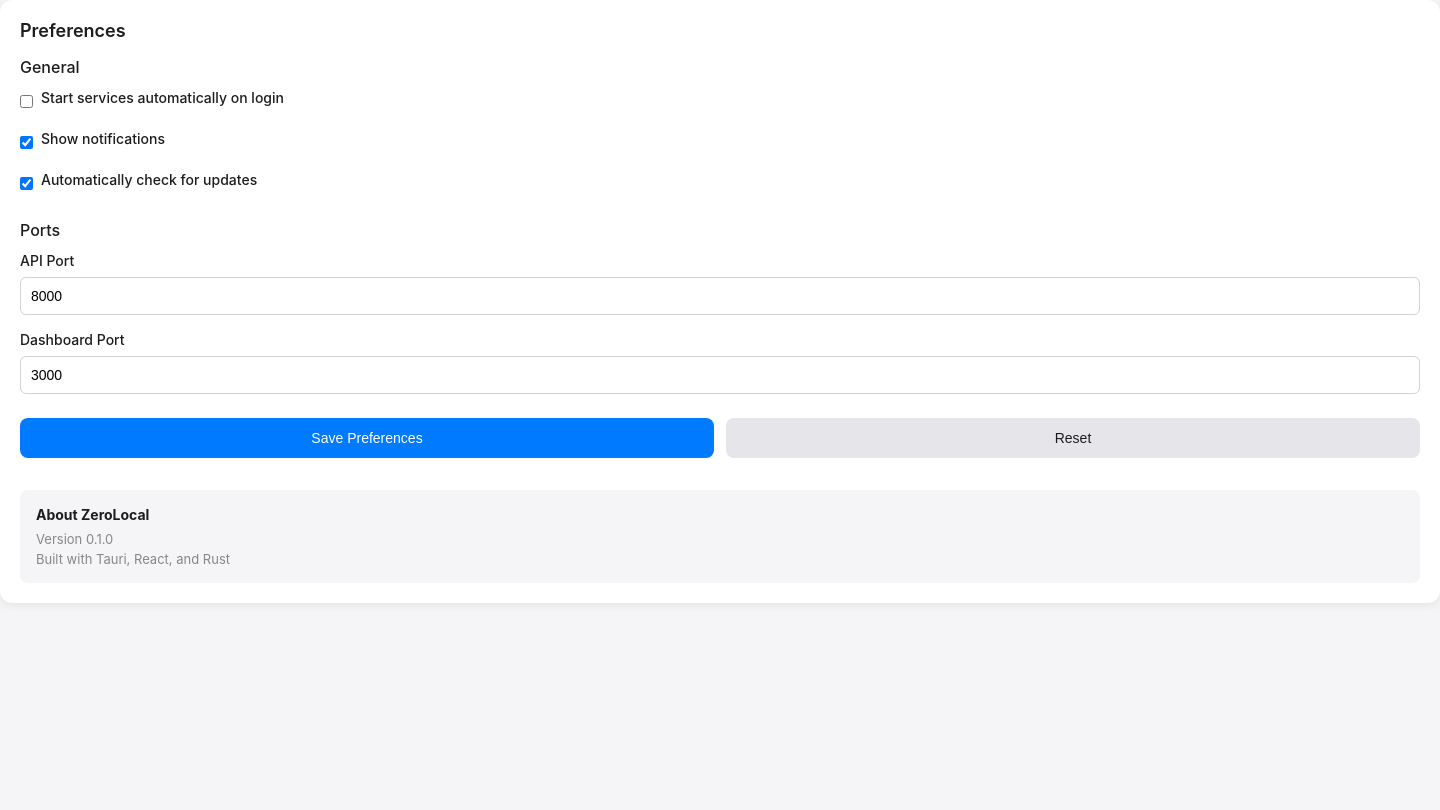
Test: Preferences Component › should show "Saved!" text after saving
Click the button "Save Preferences". click: (367, 438)
box: [20,418,714,458]
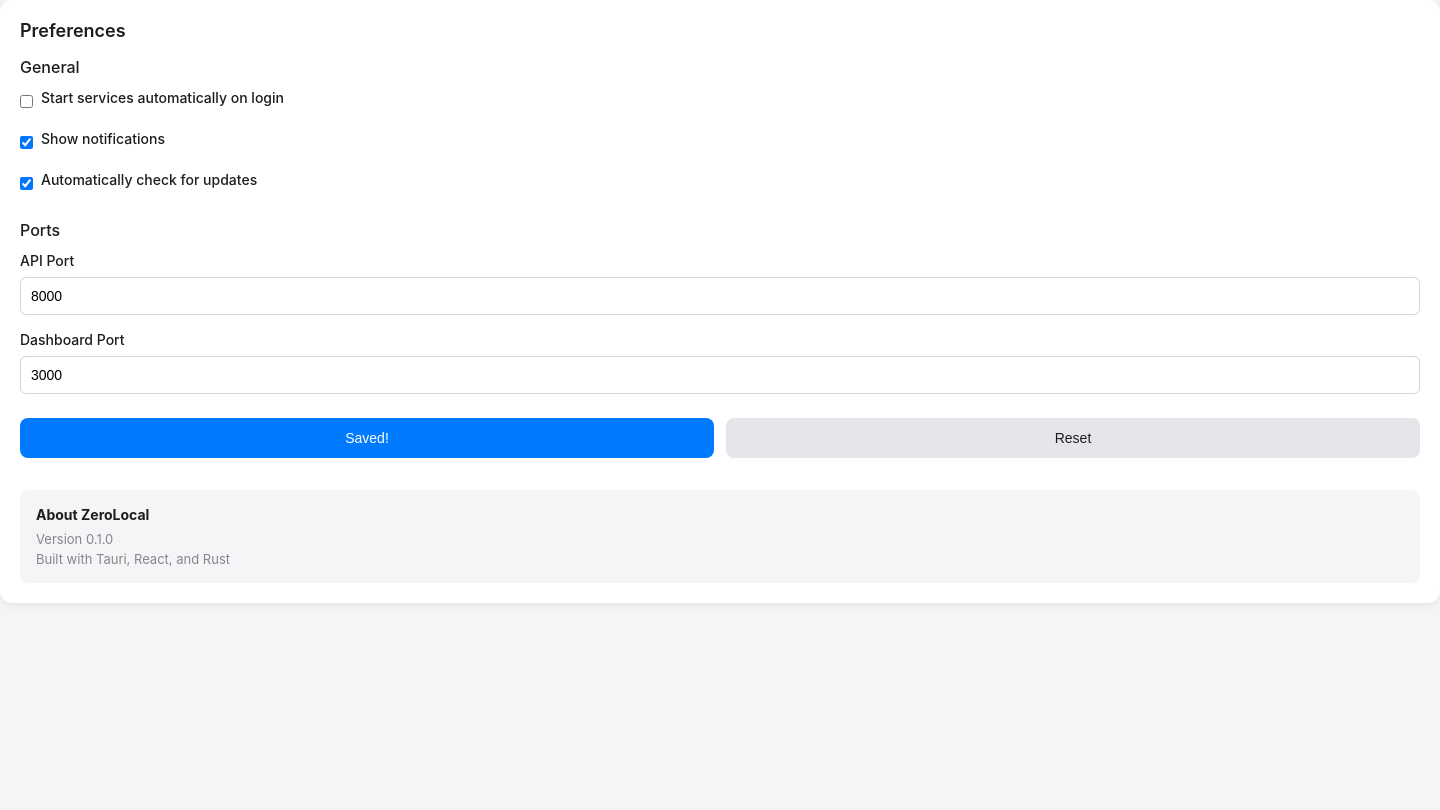
Result: the button "Saved!" is shown at [20,418,714,458]
